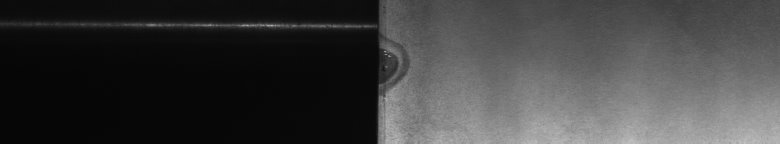hb: (388, 33, 428, 100)
